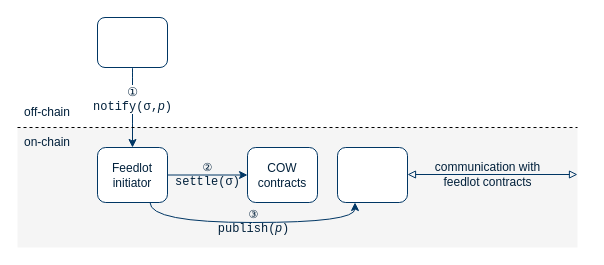
This 604x265 diagram has some shape labels left out. Each missing label, with the centre of its shape:
"COW services" belongs at [132,42].
"Feedlot oracle" belongs at [372,174].
